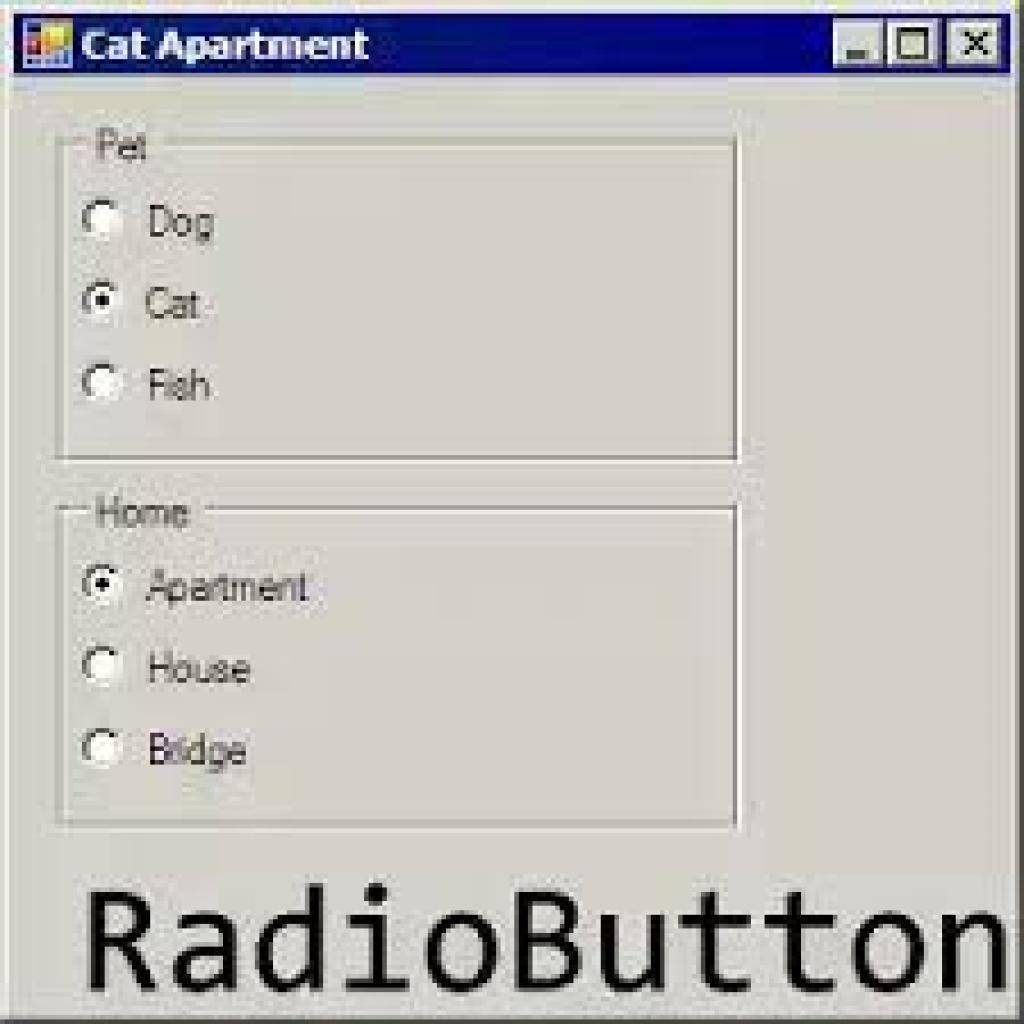label: (145, 567, 313, 611), (145, 644, 259, 696), (152, 723, 256, 775), (147, 362, 219, 413), (149, 202, 220, 250), (92, 123, 158, 165), (143, 280, 204, 321)
radio: (77, 643, 127, 692), (78, 278, 124, 326), (84, 562, 127, 606), (84, 727, 123, 774), (82, 360, 123, 404), (84, 200, 122, 243)
